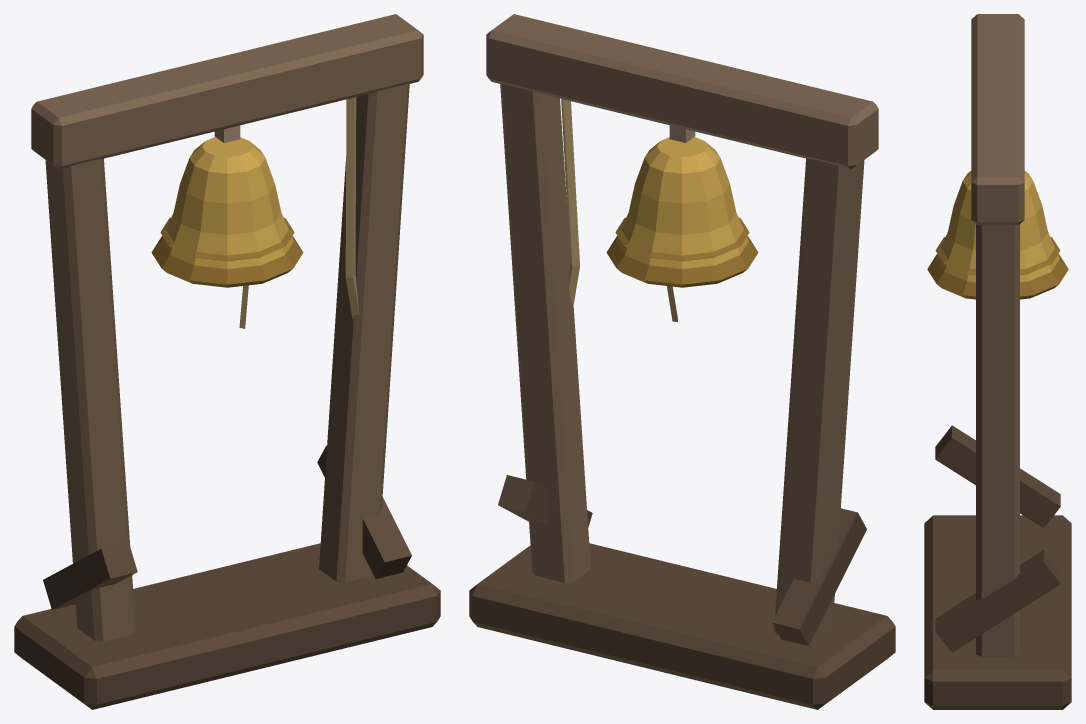
The model's file is bell.glb.
3 renders of one model, left to right at view 1: azimuth 30°, elevation 25°; view 2: azimuth 150°, elevation 25°; view 3: azimuth 270°, elevation 25°, orthographic. The views are drawn at different scales.
Visible parts, largest first — view 1: frame, bell; view 2: frame, bell; view 3: frame, bell.
Part boxes in pixels (<box>): frame: <box>14,14,440,709</box>; bell: <box>151,137,303,328</box>; frame: <box>469,14,895,709</box>; bell: <box>606,137,758,321</box>; frame: <box>924,14,1071,709</box>; bell: <box>927,171,1068,299</box>.
Bounding box in the file's own units: 1.35 × 2.01 × 0.5.
Materials: 1 (1 with a texture image).
